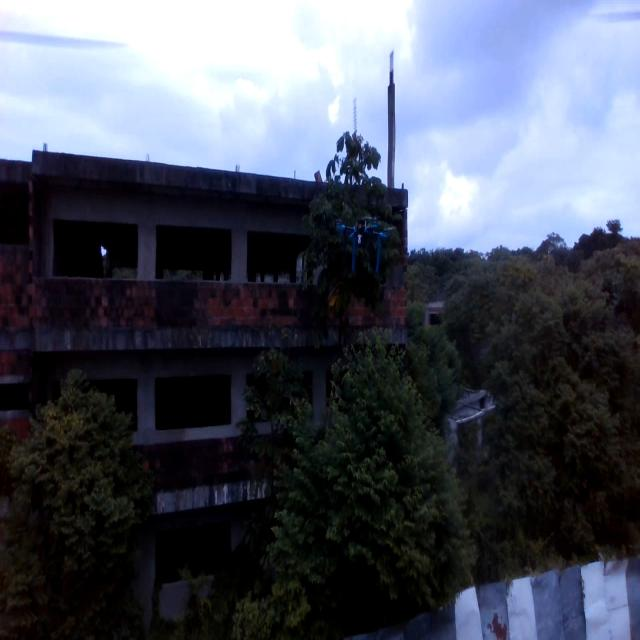-uav-: (339, 202, 388, 288)
